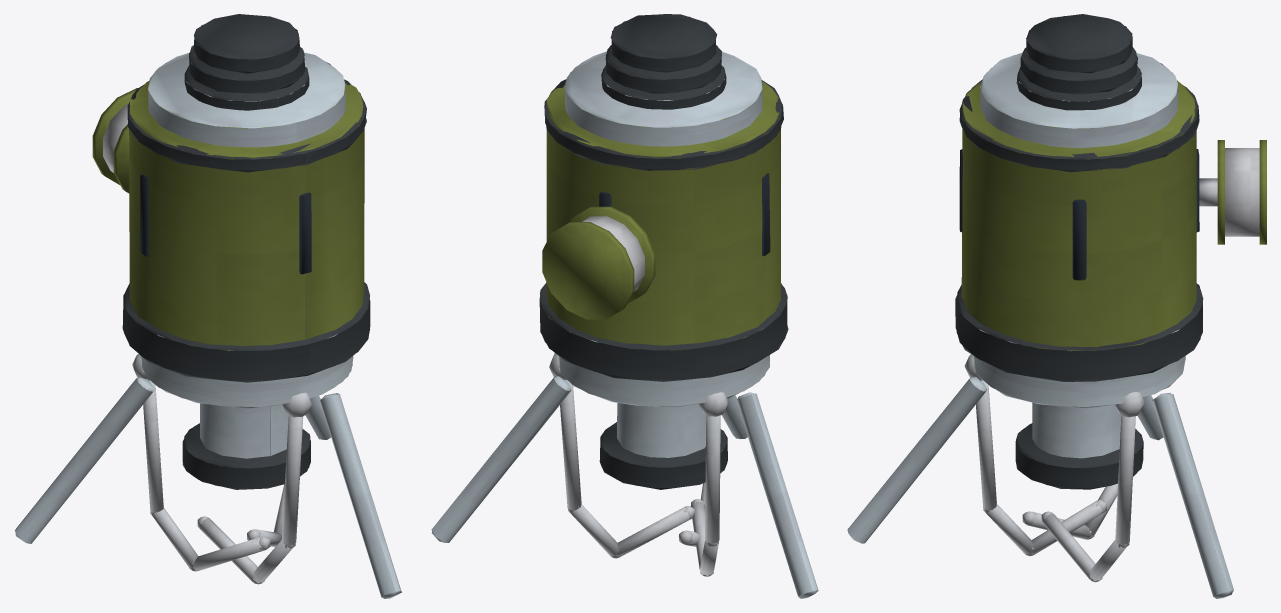
File: claw_grapple.glb
3 views of the same model, side by side, from view 1: azimuth 30°, elevation 25°; view 2: azimuth 150°, elevation 25°; view 3: azimuth 270°, elevation 25° (orthographic).
Visible parts, largest first — view 1: Hand, Jaw0, Jaw2, Jaw1; view 2: Hand, Jaw1, Jaw2; view 3: Hand, Jaw1, Jaw0, Jaw2.
Boxes of the visible parts, x1,y1,x2,y2 form: Hand: (15,14,401,598); Jaw0: (197,392,311,584); Jaw2: (132,354,270,571); Jaw1: (247,479,299,547); Hand: (431,14,818,598); Jaw1: (549,353,694,558); Jaw2: (690,392,728,576); Hand: (847,14,1266,598); Jaw1: (1041,392,1144,582); Jaw0: (964,354,1106,556); Jaw2: (1022,483,1117,539).
Bounding box in the file's own units: 0.7756 × 1.11 × 0.8024.
Materials: 6 (6 with a texture image).
